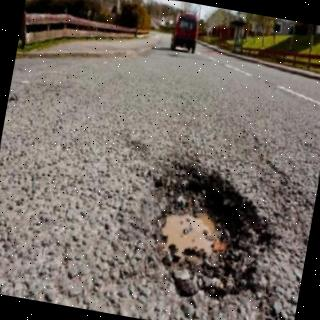pothole: (153, 163, 275, 298)
